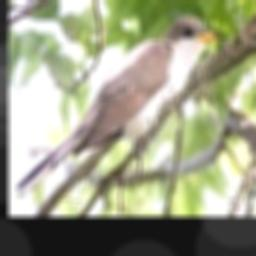Cuckoo: (15, 17, 224, 197)
